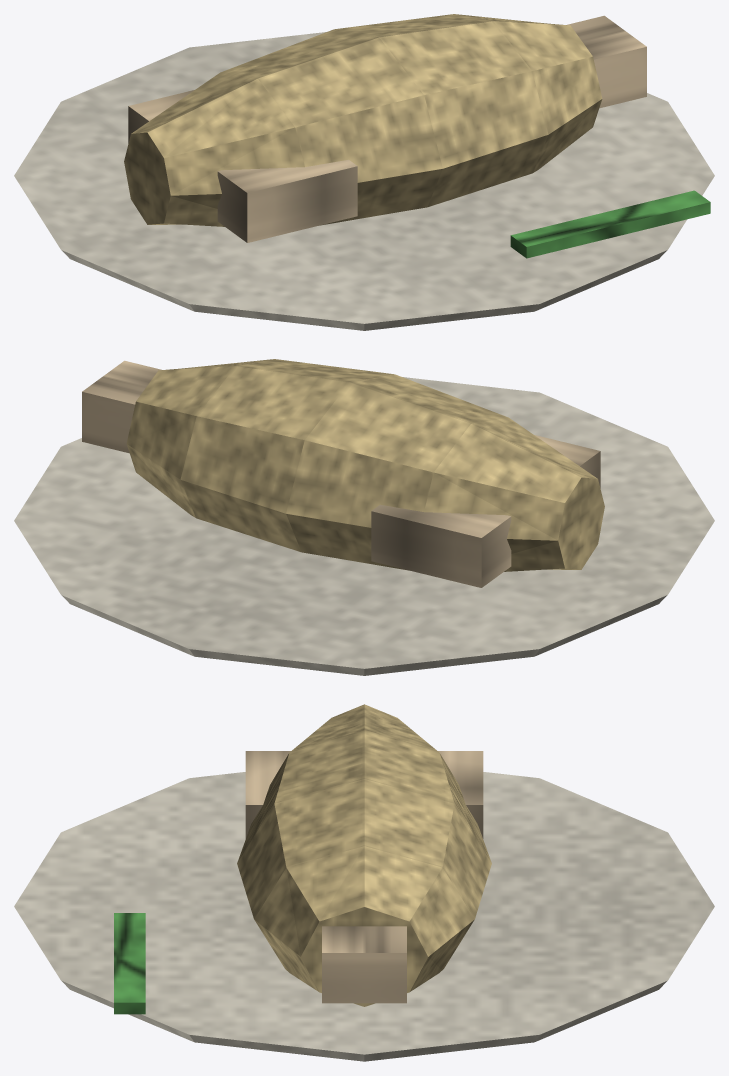
Rendered from whole_chicken.fbx.
The picture shows the model from 3 angles, top to bottom: view 1: azimuth 30°, elevation 25°; view 2: azimuth 150°, elevation 25°; view 3: azimuth 270°, elevation 25°; orthographic projection.
Visible parts, largest first — view 1: whole_chicken; view 2: whole_chicken; view 3: whole_chicken.
Part boxes in pixels (x1,y1,x2,y2): whole_chicken: (14, 14, 714, 330); whole_chicken: (14, 359, 714, 675); whole_chicken: (14, 704, 714, 1061).
Size of the model in its own units: 33 by 10.2 by 33.
